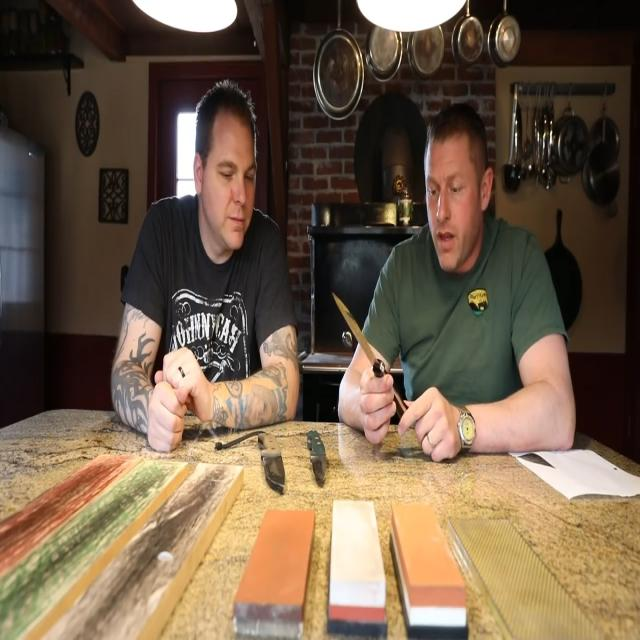knife: (332, 287, 384, 383), (256, 424, 293, 489), (306, 425, 332, 488)
